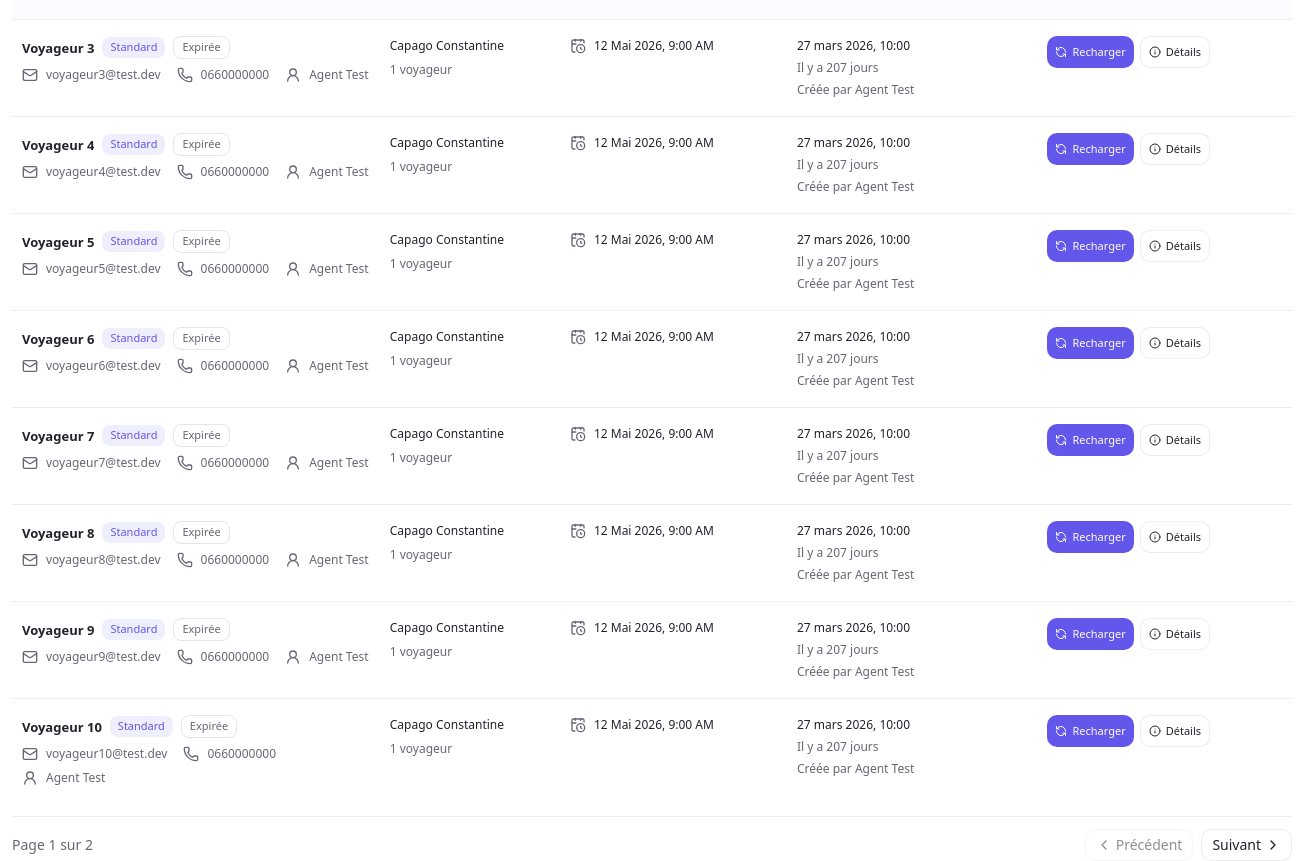
Test: RequestRecordList › paginates long histories
(page scrolled)
Expected: the text "Voyageur 10" is shown, [22,714,102,738]
Expected: the text "Voyageur 11" is not shown
Step 1. Click the button "Suivant" → x=1247, y=844, box [1201,828,1292,860]
(page scrolled)
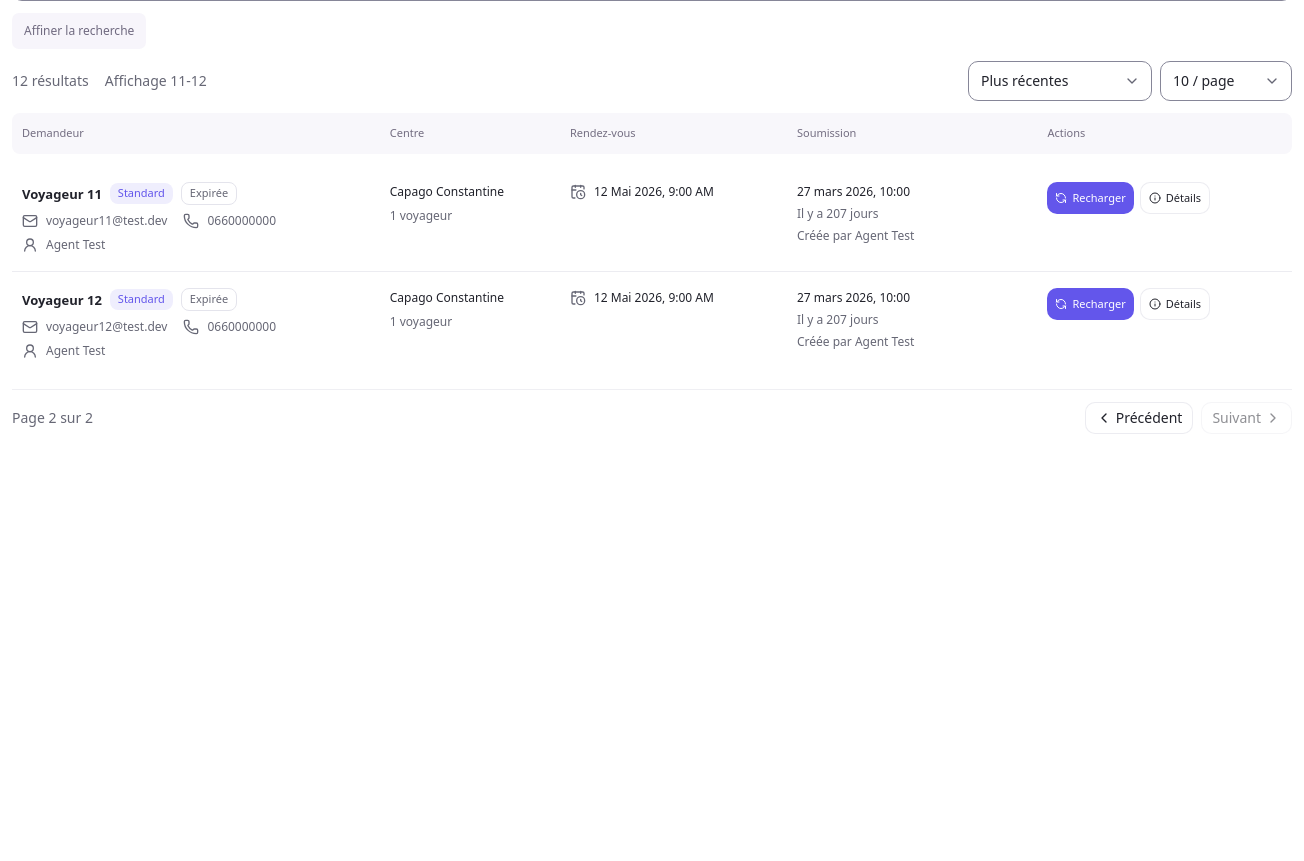
Expected: the text "Voyageur 12" is shown, [22,288,102,312]
Now the text "Voyageur 11" is shown, box [22,182,102,206]
